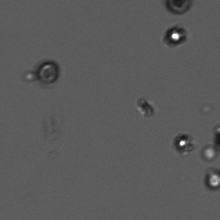Dead Cell: (31, 57, 64, 89), (157, 1, 198, 16)
Living Cell: (168, 127, 198, 157), (160, 23, 189, 49)
